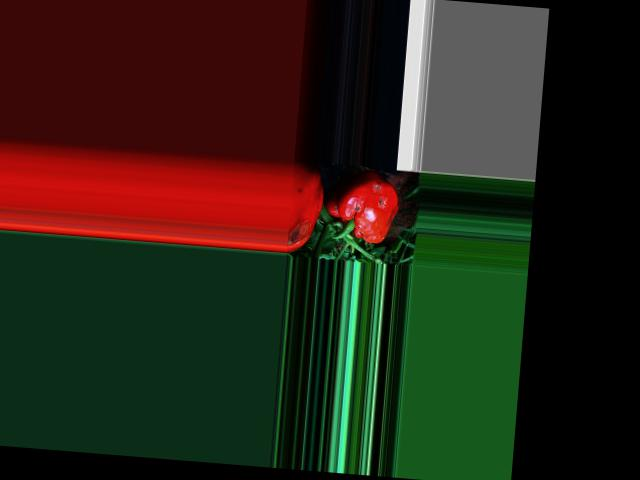bell_pepper: (322, 163, 398, 251)
